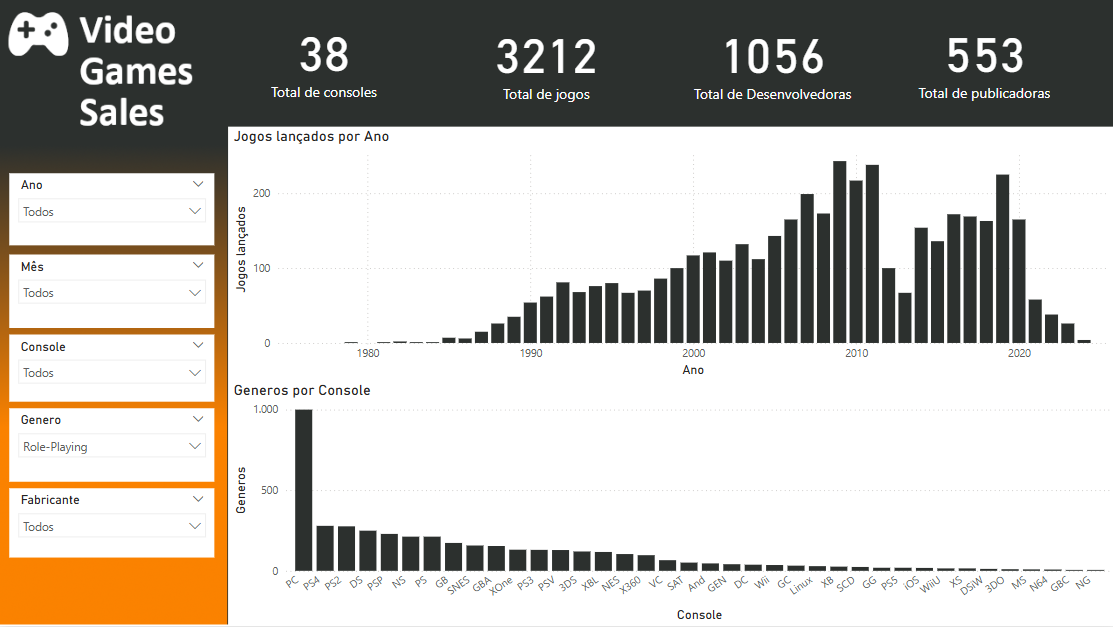

What the dashboard file says about the page in this screenshot:
{"tool":"powerbi","page":{"name":"Video Game Market Insights","canvas":[1280,720],"ordinal":0},"visuals":[{"type":"columnChart","fields":{"Category":["tabela_calendario.date.Variation.Hierarquia de datas.Ano"],"Y":["CountNonNull(df_vgchartz_tratado.Titulo)"]},"box":[264.8,148.2,1015.4,290.9],"z":0},{"type":"slicer","fields":{"Values":["tabela_calendario.date.Variation.Hierarquia de datas.Ano"]},"box":[12.3,201.7,234.6,82.3],"z":1},{"type":"slicer","fields":{"Values":["tabela_calendario.date.Variation.Hierarquia de datas.Mês"]},"box":[12.3,293.7,234.6,83.7],"z":2},{"type":"columnChart","fields":{"Category":["df_vgchartz_tratado.Console"],"Y":["CountNonNull(df_vgchartz_tratado.Genero)"]},"box":[264.8,439.1,1015.4,281.3],"z":3},{"type":"slicer","fields":{"Values":["df_vgchartz_tratado.Genero"]},"box":[12.3,469.3,234.6,83.7],"z":4},{"type":"slicer","fields":{"Values":["df_vgchartz_tratado.Console"]},"box":[12.3,385.6,234.6,76.8],"z":5},{"type":"slicer","fields":{"Values":["df_vgchartz_tratado.Fabricante"]},"box":[12.3,561.2,234.6,79.6],"z":6},{"type":"card","fields":{"Values":["Count(df_vgchartz_tratado.Titulo)"]},"box":[496.7,4.1,259.3,134.5],"z":7},{"type":"card","fields":{"Values":["Count(df_vgchartz_tratado.Desenvolvedora)"]},"box":[772.6,4.1,225,134.5],"z":8},{"type":"card","fields":{"Values":["Count(df_vgchartz_tratado.Publicadora)"]},"box":[1012.7,1.4,229.2,138.6],"z":9},{"type":"card","fields":{"Values":["Count(df_vgchartz_tratado.Console)"]},"box":[264.8,4.1,216.8,130.4],"z":10}]}

Visuals, with their boxes in screenshot pixels (x1, y1, x2, y2), scaled from the page's 1280x720 canvas onto the 1113x627 screenshot:
columnChart - tabela_calendario.date.Variation.Hierarquia de datas.Ano x CountNonNull(df_vgchartz_tratado.Titulo): [230, 129, 1112, 382]
slicer - tabela_calendario.date.Variation.Hierarquia de datas.Ano: [11, 176, 215, 247]
slicer - tabela_calendario.date.Variation.Hierarquia de datas.Mês: [11, 256, 215, 329]
columnChart - df_vgchartz_tratado.Console x CountNonNull(df_vgchartz_tratado.Genero): [230, 382, 1112, 626]
slicer - df_vgchartz_tratado.Genero: [11, 409, 215, 482]
slicer - df_vgchartz_tratado.Console: [11, 336, 215, 403]
slicer - df_vgchartz_tratado.Fabricante: [11, 489, 215, 558]
card - Count(df_vgchartz_tratado.Titulo): [432, 4, 657, 121]
card - Count(df_vgchartz_tratado.Desenvolvedora): [672, 4, 867, 121]
card - Count(df_vgchartz_tratado.Publicadora): [881, 1, 1080, 122]
card - Count(df_vgchartz_tratado.Console): [230, 4, 419, 117]
